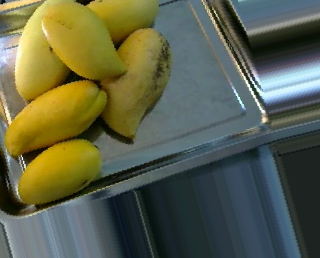Mango: (5, 80, 107, 154), (99, 28, 167, 137), (42, 1, 126, 78), (15, 2, 69, 96), (21, 139, 101, 199), (80, 1, 158, 43)
